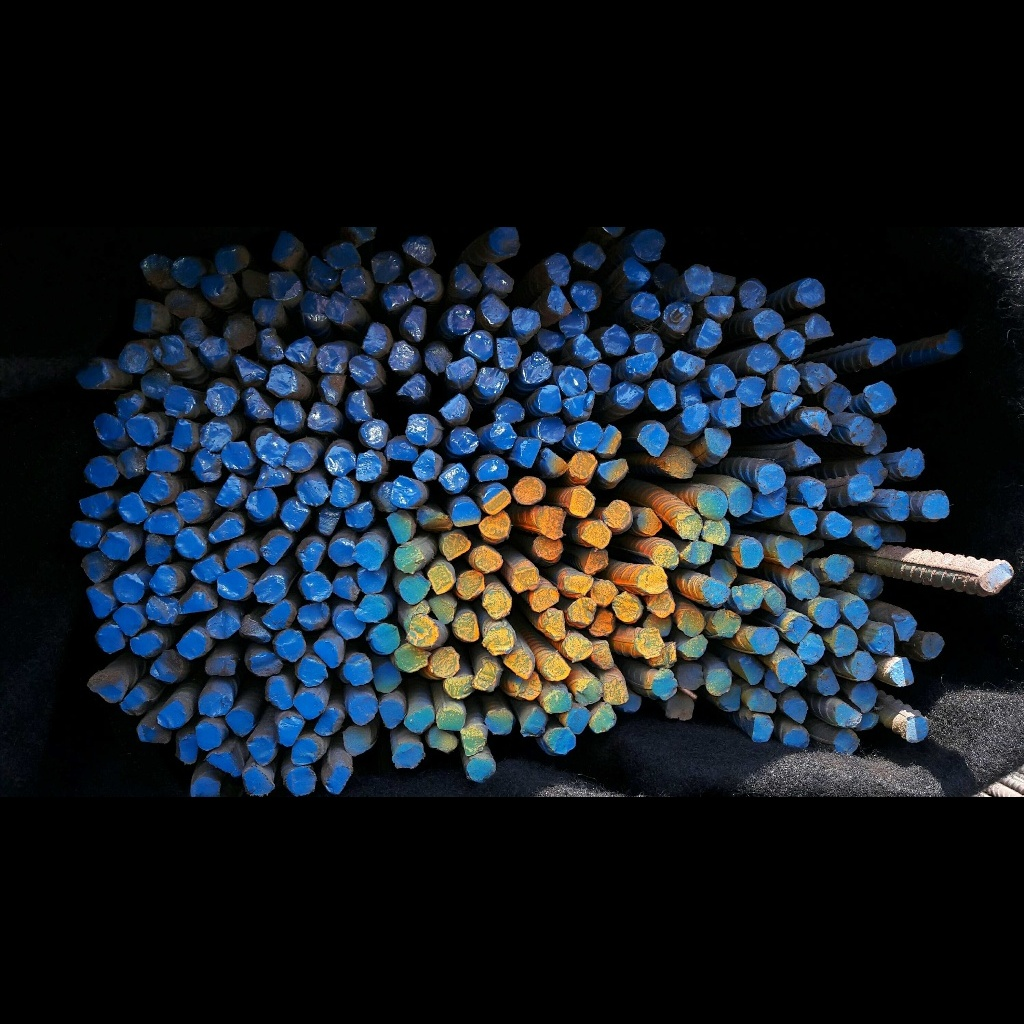dipstick: (222, 315, 257, 349), (255, 432, 289, 467), (92, 669, 128, 702), (199, 271, 237, 302), (77, 356, 111, 390), (307, 257, 341, 291), (261, 531, 293, 566), (270, 234, 305, 266), (339, 268, 375, 299), (206, 383, 239, 416), (273, 398, 306, 431), (270, 270, 303, 303), (234, 352, 268, 384), (150, 651, 184, 683), (637, 422, 668, 457), (324, 242, 362, 270), (135, 300, 168, 332), (296, 473, 329, 505), (284, 334, 316, 367), (520, 352, 552, 385), (152, 335, 186, 366), (84, 456, 118, 487), (215, 474, 246, 508), (262, 599, 296, 630), (324, 444, 355, 478), (402, 235, 436, 266), (407, 613, 438, 647), (296, 536, 326, 571), (146, 594, 181, 624), (200, 421, 232, 453), (316, 342, 348, 374), (142, 253, 175, 284), (372, 250, 403, 283), (390, 477, 423, 508), (632, 230, 665, 261), (612, 590, 643, 623), (980, 562, 1014, 592), (205, 751, 241, 779), (162, 386, 193, 418), (128, 414, 159, 446), (223, 441, 254, 473), (275, 629, 306, 661), (438, 462, 470, 493), (697, 487, 728, 519), (753, 309, 784, 341), (732, 536, 763, 568), (192, 449, 222, 482), (175, 528, 208, 558), (81, 552, 114, 582), (408, 270, 441, 300), (482, 587, 512, 620), (191, 555, 225, 584), (113, 606, 147, 635), (307, 403, 341, 432), (395, 643, 429, 672), (399, 307, 426, 343), (79, 492, 116, 518), (244, 387, 275, 418), (247, 488, 278, 519), (444, 304, 475, 335), (369, 623, 400, 654), (505, 648, 536, 679), (865, 381, 896, 412), (667, 447, 698, 478), (119, 343, 151, 373), (483, 262, 515, 292), (388, 341, 420, 371), (86, 585, 115, 618), (277, 715, 306, 748), (747, 344, 780, 373), (380, 283, 414, 311), (141, 370, 172, 400), (93, 414, 124, 444), (286, 442, 316, 473), (140, 473, 170, 504), (149, 564, 179, 595), (218, 570, 249, 600), (405, 414, 436, 444), (663, 302, 693, 333), (113, 574, 145, 603), (298, 656, 327, 688), (325, 291, 354, 323), (480, 294, 509, 326), (483, 626, 515, 655), (119, 446, 147, 479), (290, 737, 323, 765), (454, 262, 482, 295), (345, 390, 373, 423), (355, 595, 388, 623), (215, 246, 249, 273), (254, 575, 288, 602), (296, 603, 330, 630), (265, 677, 292, 711), (281, 500, 311, 530), (416, 506, 452, 531), (335, 610, 365, 640), (343, 725, 373, 755), (119, 493, 148, 524), (424, 344, 453, 375), (479, 367, 508, 398), (431, 647, 460, 678), (571, 280, 600, 311), (567, 487, 596, 518), (635, 627, 664, 658), (252, 297, 284, 325), (243, 767, 275, 795), (353, 541, 385, 569), (345, 653, 373, 685), (574, 242, 606, 270), (363, 323, 390, 356), (513, 477, 546, 504), (144, 510, 181, 534), (179, 588, 216, 612), (249, 649, 283, 675), (138, 719, 173, 744), (174, 258, 204, 287), (177, 629, 207, 658), (325, 764, 354, 794), (295, 691, 324, 721), (329, 478, 359, 507), (511, 307, 541, 336), (441, 392, 470, 422), (630, 292, 660, 321), (666, 690, 695, 720), (807, 362, 836, 392), (732, 583, 762, 612), (823, 554, 853, 583), (199, 336, 230, 364), (247, 736, 278, 764), (464, 330, 492, 361), (558, 309, 589, 337), (207, 611, 239, 638), (386, 435, 418, 462), (747, 627, 779, 654), (148, 447, 181, 473), (300, 573, 333, 599), (199, 690, 233, 715), (287, 766, 316, 795), (395, 544, 424, 573), (456, 570, 485, 599), (601, 325, 630, 354), (568, 452, 597, 481), (858, 458, 887, 487), (776, 657, 805, 686), (268, 365, 298, 393), (242, 613, 270, 643), (120, 686, 150, 714), (360, 418, 388, 448), (328, 539, 358, 567), (314, 708, 344, 736), (538, 609, 566, 639), (258, 328, 285, 359), (100, 533, 131, 560), (177, 492, 204, 523), (449, 427, 480, 454), (545, 728, 576, 755), (745, 687, 776, 714), (204, 651, 236, 677), (479, 511, 511, 537), (539, 507, 565, 539), (710, 365, 736, 397), (798, 633, 824, 665), (209, 519, 245, 542), (495, 336, 520, 369), (597, 423, 622, 456), (96, 624, 125, 652), (225, 708, 254, 736), (319, 375, 347, 404), (350, 355, 378, 384), (447, 357, 476, 385), (487, 421, 516, 449), (386, 514, 414, 543), (483, 487, 512, 515), (406, 706, 435, 734), (474, 663, 502, 692), (702, 517, 730, 546), (796, 279, 825, 307), (868, 339, 897, 367), (789, 507, 818, 535), (145, 534, 172, 564), (157, 701, 187, 728), (314, 639, 341, 669), (400, 577, 430, 604), (350, 694, 377, 724), (685, 264, 712, 294), (649, 380, 676, 410), (589, 702, 616, 732), (568, 597, 595, 627), (644, 589, 674, 616), (738, 376, 765, 406), (704, 428, 731, 458), (758, 464, 785, 494), (777, 537, 804, 567), (850, 681, 877, 711), (546, 253, 572, 284), (831, 626, 857, 657), (226, 543, 258, 568), (442, 533, 470, 561), (475, 544, 503, 572), (574, 421, 602, 449), (791, 572, 819, 600), (921, 491, 949, 519), (375, 663, 402, 692), (453, 612, 480, 641), (558, 367, 587, 394), (542, 654, 571, 681), (777, 330, 804, 359), (773, 365, 800, 394), (792, 439, 821, 466), (842, 600, 869, 629), (898, 448, 925, 477), (355, 450, 381, 480), (452, 501, 482, 527), (542, 447, 568, 477), (651, 669, 677, 699), (638, 566, 668, 592), (801, 410, 831, 436), (115, 393, 146, 418), (492, 398, 523, 423), (392, 743, 423, 768), (673, 351, 704, 376), (770, 392, 801, 417), (179, 318, 207, 345), (545, 287, 572, 315), (623, 257, 651, 284), (574, 334, 601, 362), (604, 500, 631, 528), (740, 280, 767, 308), (716, 399, 743, 427), (824, 385, 851, 413), (799, 481, 827, 508), (196, 721, 222, 750), (444, 673, 473, 699), (696, 320, 722, 349), (599, 459, 628, 485), (582, 522, 611, 548), (543, 688, 572, 714), (683, 403, 709, 432), (851, 652, 877, 681), (71, 520, 101, 545), (357, 569, 387, 594), (529, 586, 559, 611), (678, 634, 708, 659), (626, 353, 657, 377), (728, 485, 752, 516), (130, 633, 162, 656), (412, 449, 435, 481), (848, 474, 875, 501), (857, 573, 884, 600), (785, 615, 812, 642), (714, 610, 741, 637), (427, 566, 453, 594), (461, 727, 487, 755), (485, 709, 513, 735), (430, 595, 456, 623), (511, 565, 539, 591), (703, 577, 729, 605), (805, 313, 833, 339), (891, 613, 917, 641), (677, 513, 702, 542), (850, 417, 875, 446), (884, 491, 909, 520), (380, 699, 404, 729), (635, 333, 665, 357), (533, 536, 563, 560), (522, 706, 546, 736), (870, 625, 894, 655), (172, 418, 193, 452), (477, 457, 508, 480), (243, 270, 270, 296), (332, 574, 358, 601), (636, 508, 662, 535), (601, 678, 628, 704), (591, 579, 617, 606), (679, 610, 706, 636), (814, 600, 840, 627), (902, 717, 929, 743), (345, 502, 373, 527), (565, 393, 593, 418), (566, 707, 591, 735), (708, 560, 737, 584), (816, 667, 840, 696), (682, 542, 712, 565), (865, 424, 887, 455), (539, 417, 565, 443), (825, 512, 851, 538), (856, 525, 882, 551), (492, 228, 519, 253), (617, 382, 644, 407), (575, 678, 602, 703), (585, 547, 609, 575), (467, 758, 496, 781), (592, 640, 615, 669), (179, 732, 199, 765), (519, 438, 541, 468), (765, 585, 786, 616), (538, 385, 562, 412), (565, 572, 592, 596), (739, 658, 763, 685), (920, 632, 944, 659), (835, 704, 861, 728), (590, 362, 610, 393), (566, 636, 591, 660), (653, 545, 678, 569), (783, 699, 807, 724), (834, 730, 859, 754), (705, 671, 731, 694), (937, 331, 963, 354), (891, 658, 913, 685), (706, 296, 732, 318), (751, 715, 773, 741), (437, 708, 464, 729), (192, 777, 220, 797), (785, 728, 808, 748), (882, 524, 906, 543)
